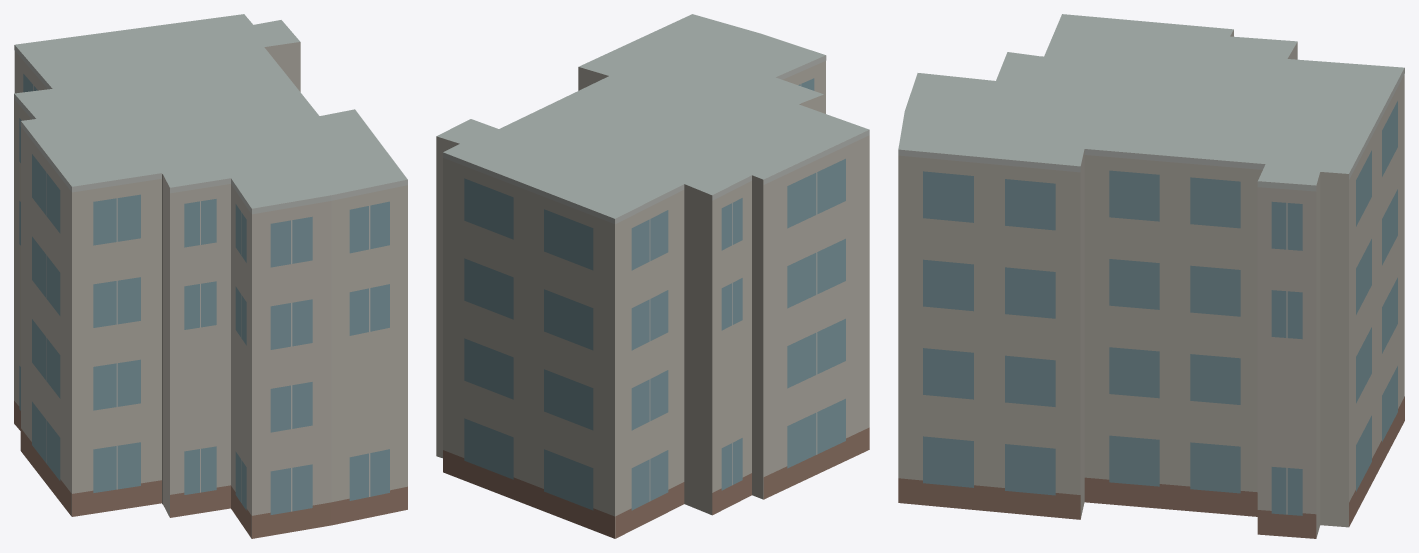
Rendered from survey-upis-32656915.glb.
3 renders of one model, left to right at view 1: azimuth 30°, elevation 25°; view 2: azimuth 150°, elevation 25°; view 3: azimuth 270°, elevation 25°, orthographic. The views are drawn at different scales.
Parts seen in each view (by area): view 1: survey-upis-32656915.tmp; view 2: survey-upis-32656915.tmp; view 3: survey-upis-32656915.tmp.
Boxes of the visible parts, box(x1,y1,x2,y2) form: survey-upis-32656915.tmp: box(14, 14, 407, 538); survey-upis-32656915.tmp: box(436, 14, 869, 538); survey-upis-32656915.tmp: box(898, 14, 1404, 538).
Bounding box in the file's own units: 14.89 × 14.3 × 18.58.
